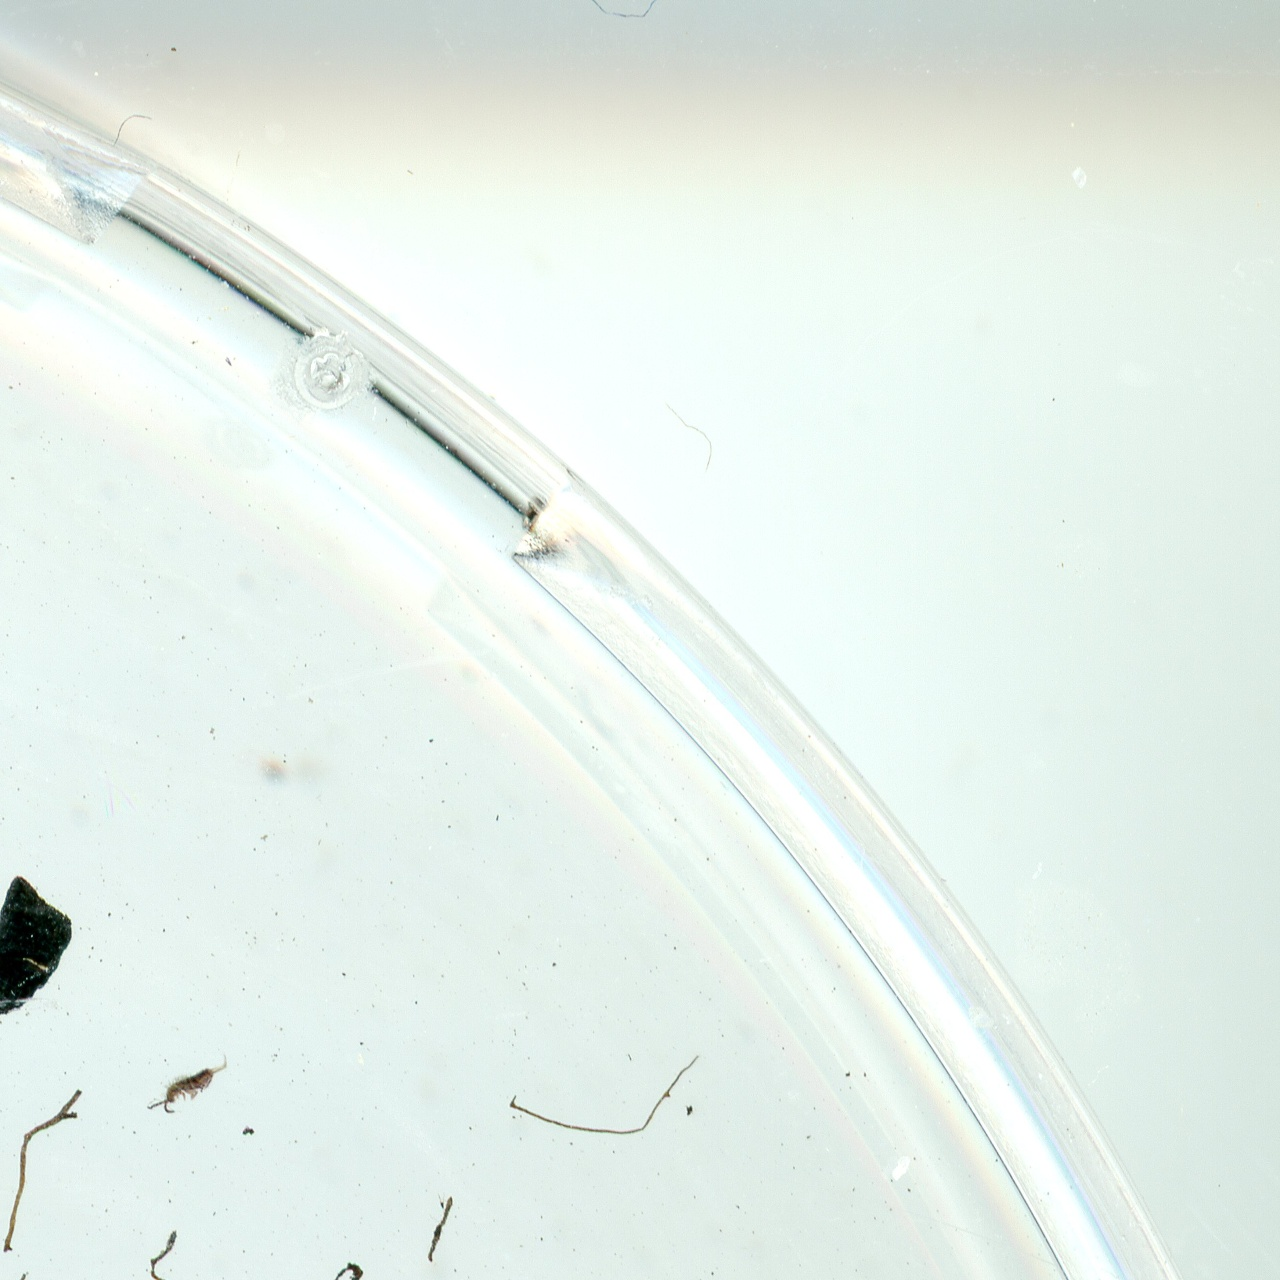arthropod: (132, 1043, 247, 1129)
